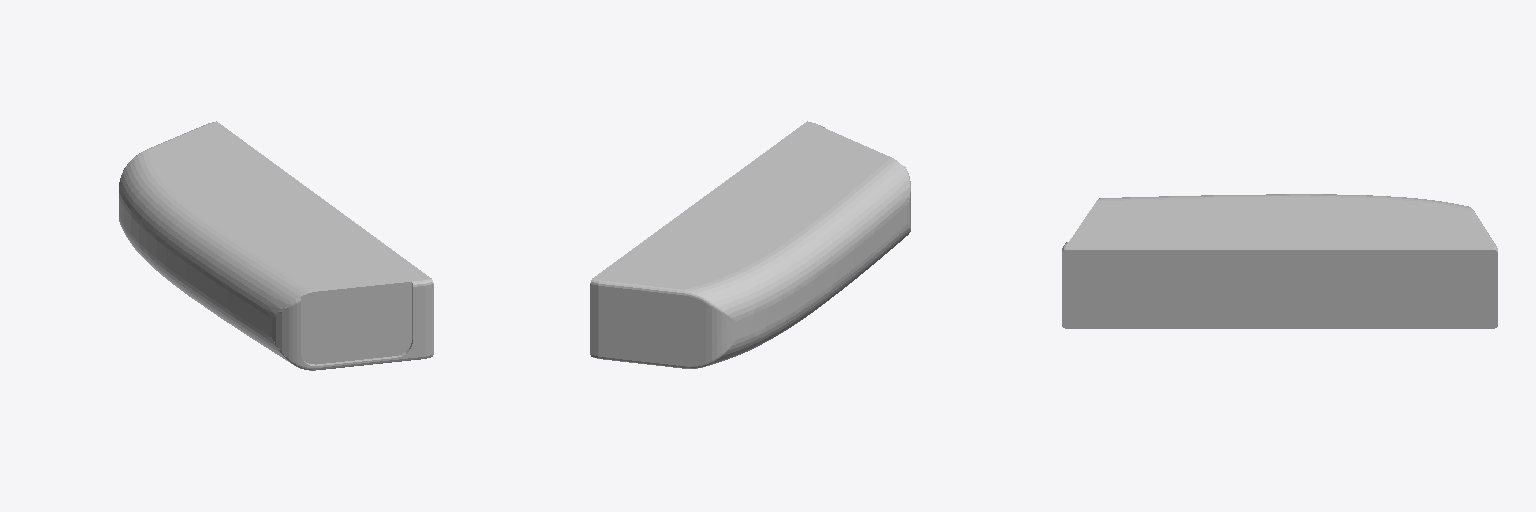
File: MainBodyLeft.obj
The picture shows the model from 3 angles: view 1: azimuth 30°, elevation 25°; view 2: azimuth 150°, elevation 25°; view 3: azimuth 270°, elevation 25°; orthographic projection.
Parts seen in each view (by area): view 1: MainBodyLeft; view 2: MainBodyLeft; view 3: MainBodyLeft.
Boxes of the visible parts, x1=… form: MainBodyLeft: x1=119, y1=121, x2=433, y2=370; MainBodyLeft: x1=590, y1=121, x2=910, y2=368; MainBodyLeft: x1=1062, y1=194, x2=1497, y2=328.
Size of the model in its own units: 38.35 by 21 by 106.